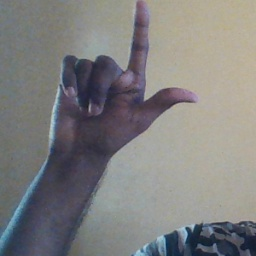L: (51, 1, 198, 157)
